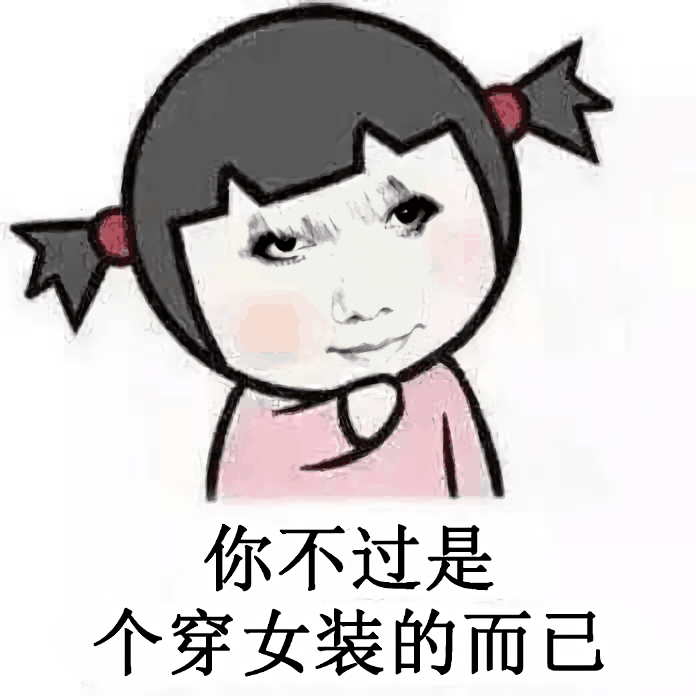dragon: (240, 192, 445, 367)
